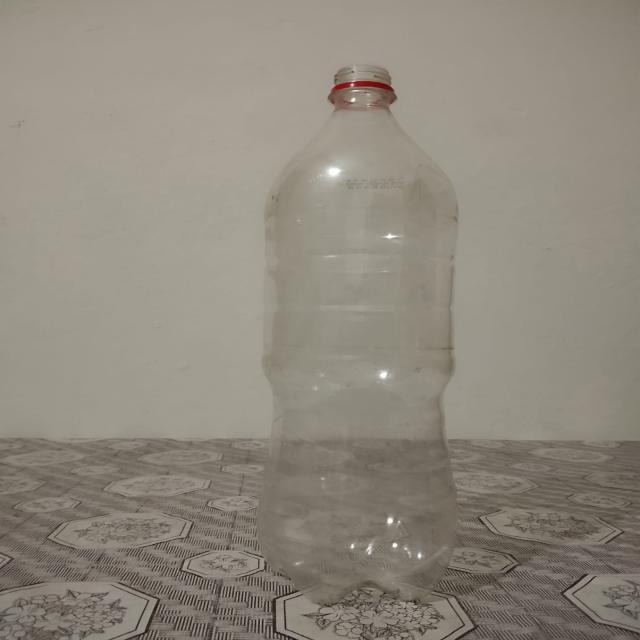bottle: (246, 66, 461, 608)
